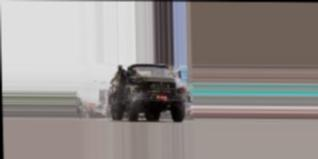License_Plate: (155, 94, 169, 101)
